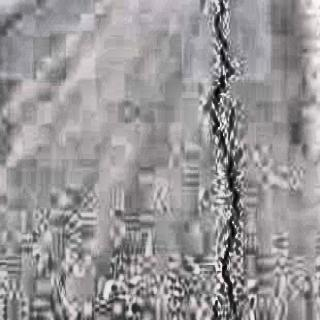crack: (204, 0, 242, 320)
